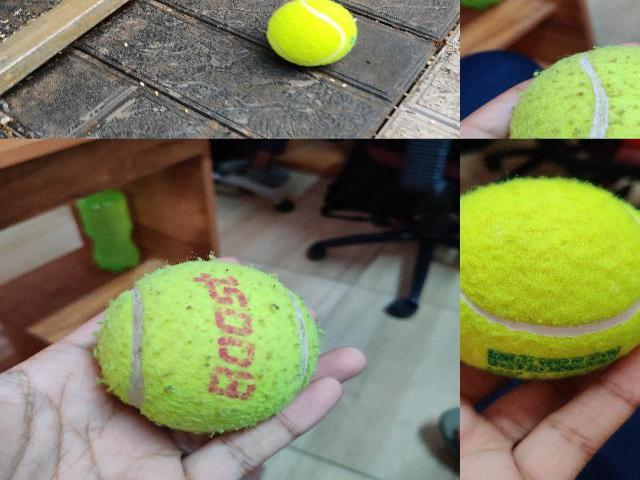tennis-ball: (98, 261, 318, 431), (460, 178, 639, 378), (507, 45, 639, 138), (266, 0, 359, 66)
